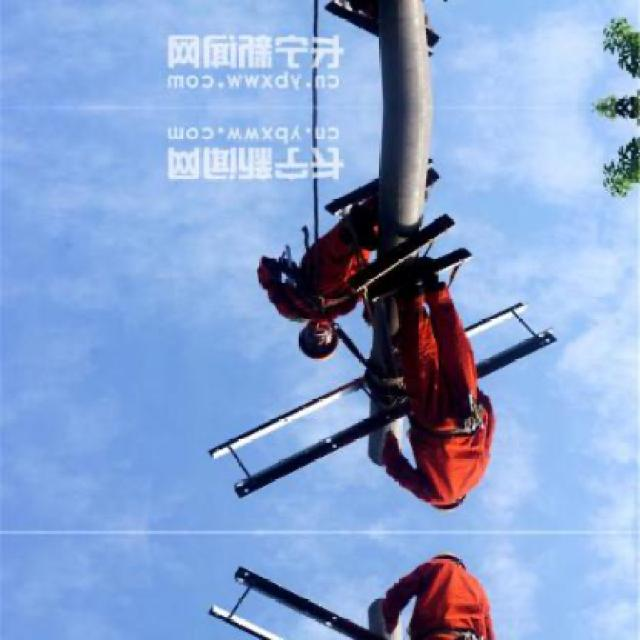sin casco: (297, 320, 345, 376)
